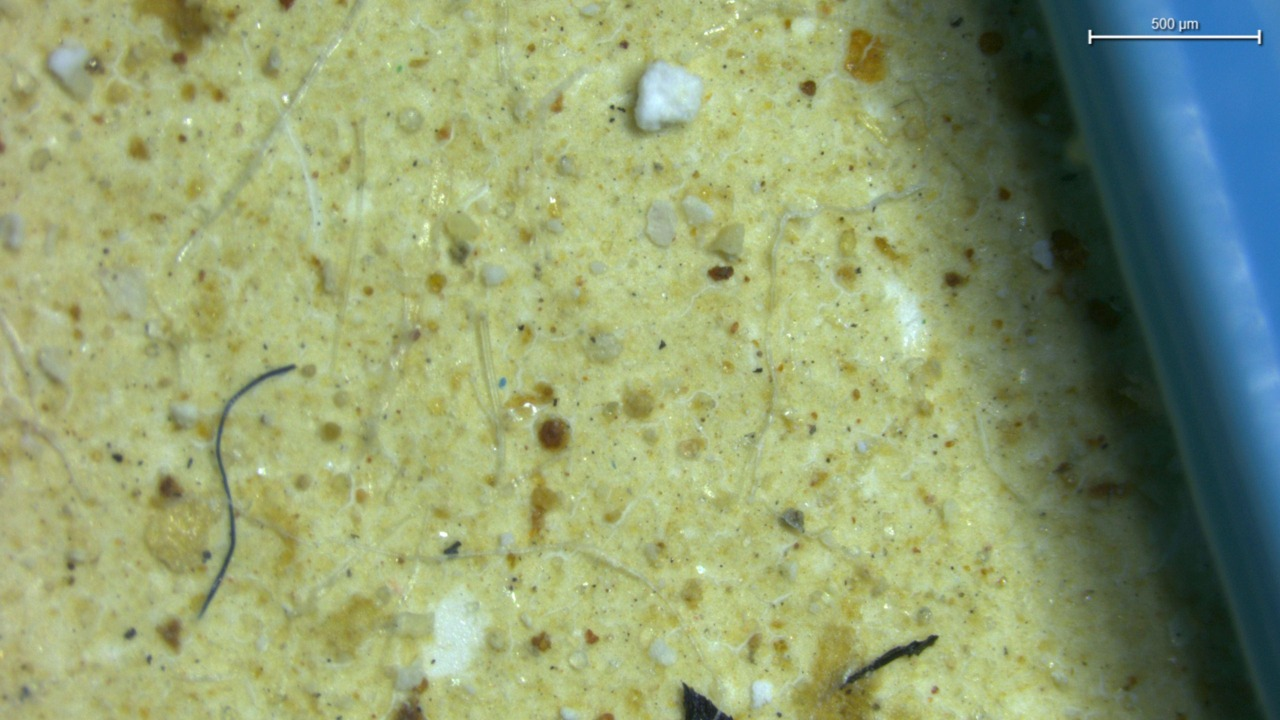microplastic_fragment: (633, 59, 714, 128)
